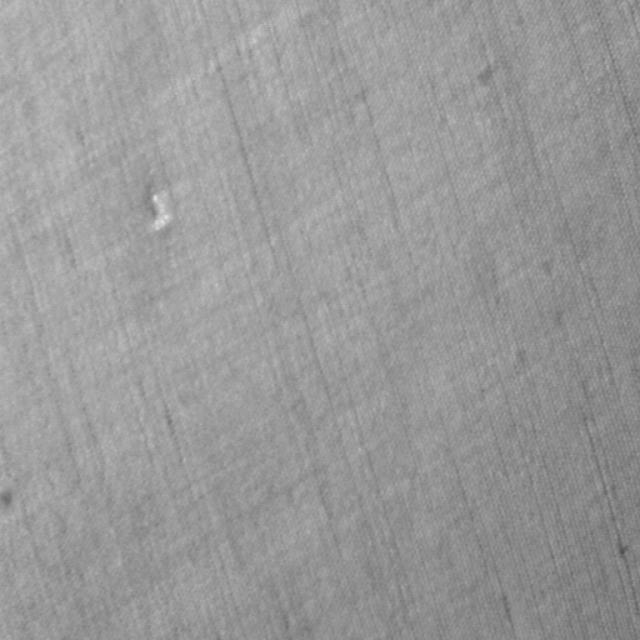hole: (142, 182, 170, 232)
